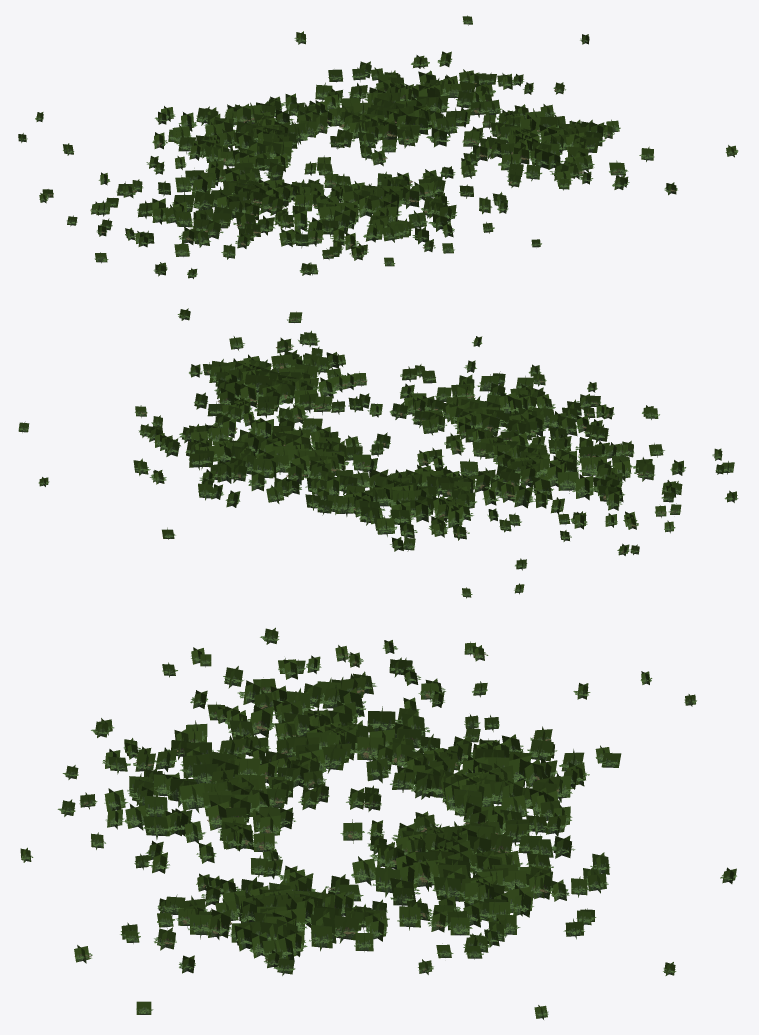
File: Ground_Moss_ShootMat_03_LOD2.fbx
The picture shows the model from 3 angles, top to bottom: view 1: azimuth 30°, elevation 25°; view 2: azimuth 150°, elevation 25°; view 3: azimuth 270°, elevation 25°; orthographic projection. The views are drawn at different scales.
Visible parts, largest first — view 1: Ground_Moss_ShootMat_03_LOD2_Mesh; view 2: Ground_Moss_ShootMat_03_LOD2_Mesh; view 3: Ground_Moss_ShootMat_03_LOD2_Mesh.
Part boxes in pixels (<box>): Ground_Moss_ShootMat_03_LOD2_Mesh: <box>18,15,738,278</box>; Ground_Moss_ShootMat_03_LOD2_Mesh: <box>18,308,738,598</box>; Ground_Moss_ShootMat_03_LOD2_Mesh: <box>20,627,736,1019</box>.
Size of the model in its own units: 123 by 3.46 by 98.09.
2 materials, 2 textured.
